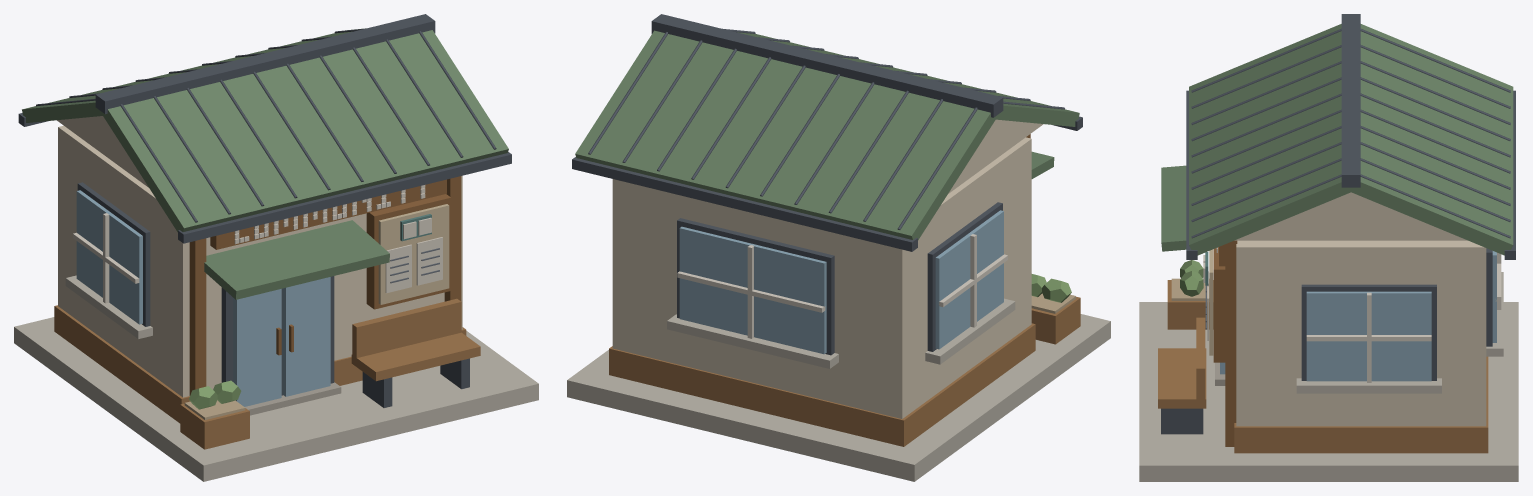
File: komachi-community-centre.glb
The picture shows the model from 3 angles, left to right: view 1: azimuth 30°, elevation 25°; view 2: azimuth 150°, elevation 25°; view 3: azimuth 270°, elevation 25°; orthographic projection. The views are drawn at different scales.
Parts seen in each view (by area): view 1: Community_Centre_Building, Town_Chronicle_Case; view 2: Community_Centre_Building; view 3: Community_Centre_Building, Town_Chronicle_Case.
Part boxes in pixels (<box>): Community_Centre_Building: <box>14,14,538,481</box>; Town_Chronicle_Case: <box>366,194,451,309</box>; Community_Centre_Building: <box>567,14,1110,481</box>; Community_Centre_Building: <box>1139,14,1518,481</box>; Town_Chronicle_Case: <box>1203,247,1225,362</box>.
Bounding box in the file's own units: 0.96 × 0.8365 × 0.94.
